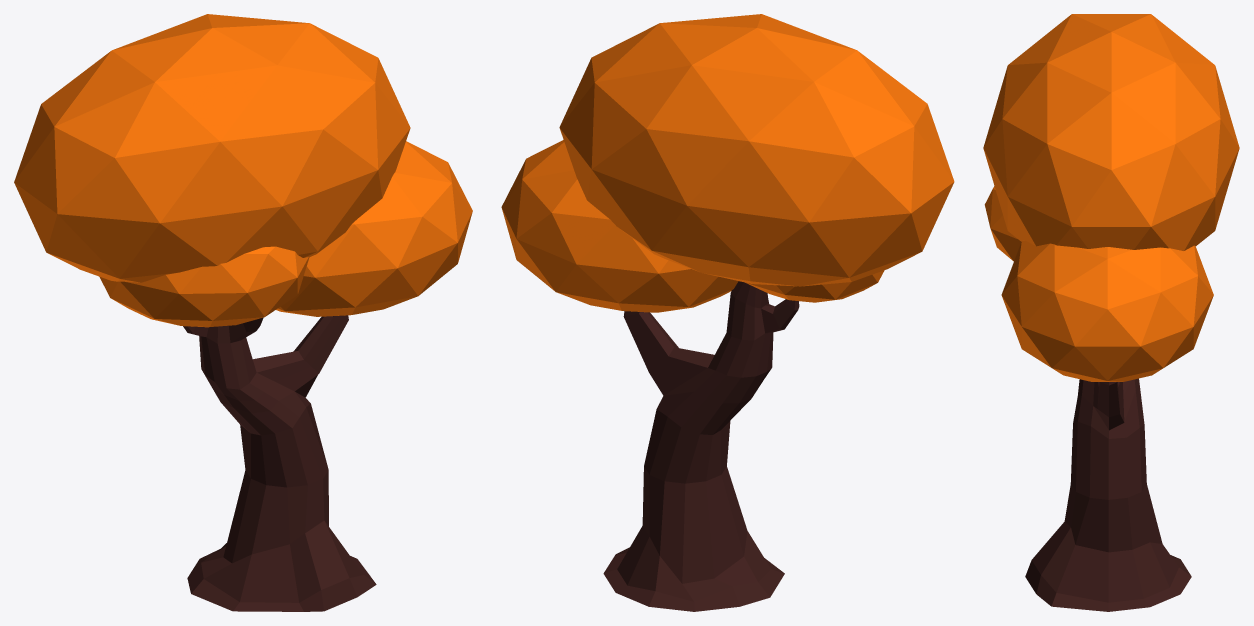
The model's file is Tree5.fbx.
The picture shows the model from 3 angles, left to right: view 1: azimuth 30°, elevation 25°; view 2: azimuth 150°, elevation 25°; view 3: azimuth 270°, elevation 25°; orthographic projection. The views are drawn at different scales.
Visible parts, largest first — view 1: Tree5; view 2: Tree5; view 3: Tree5.
Boxes of the visible parts, x1=… form: Tree5: x1=14, y1=14, x2=472, y2=611; Tree5: x1=501, y1=14, x2=954, y2=611; Tree5: x1=983, y1=14, x2=1239, y2=611.
Size of the model in its own units: 3117 by 4032 by 1815.
